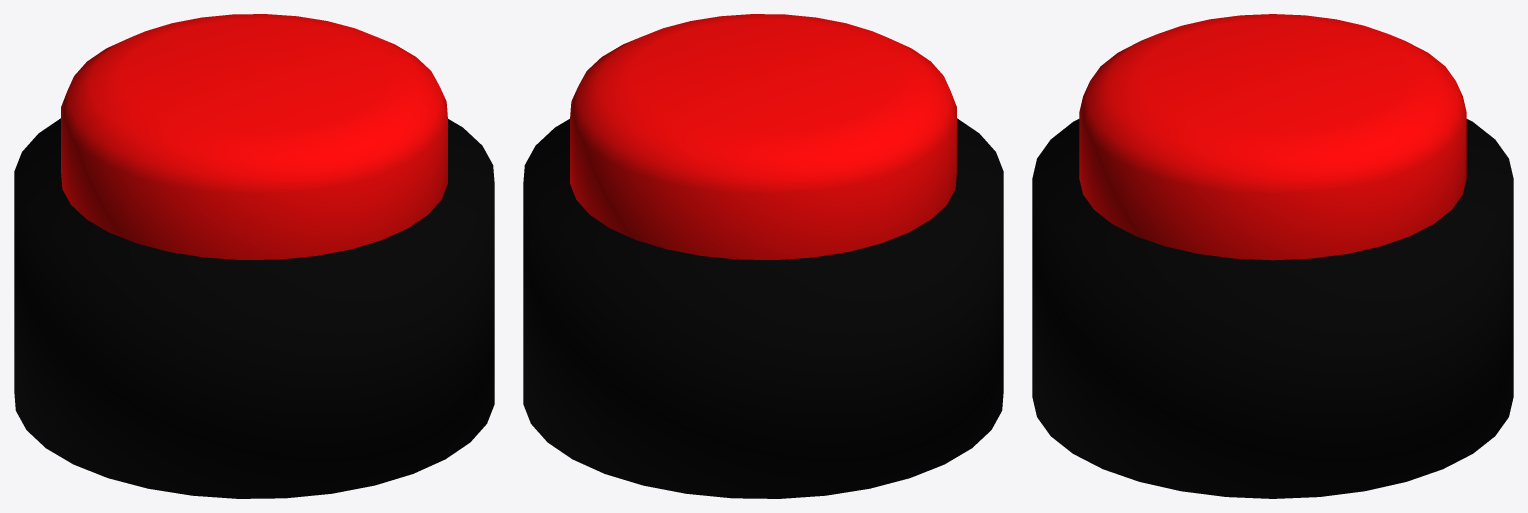
File: PushButton_Red.fbx
The picture shows the model from 3 angles, left to right: view 1: azimuth 30°, elevation 25°; view 2: azimuth 150°, elevation 25°; view 3: azimuth 270°, elevation 25°; orthographic projection.
Visible parts, largest first — view 1: ButtonSide, Button; view 2: ButtonSide, Button; view 3: ButtonSide, Button.
Boxes of the visible parts, <box> form: ButtonSide: <box>14,118,494,498</box>; Button: <box>61,14,447,259</box>; ButtonSide: <box>523,118,1003,498</box>; Button: <box>570,14,956,259</box>; ButtonSide: <box>1032,119,1513,498</box>; Button: <box>1079,14,1466,260</box>.
Size of the model in its own units: 12.42 by 9.14 by 12.42.
